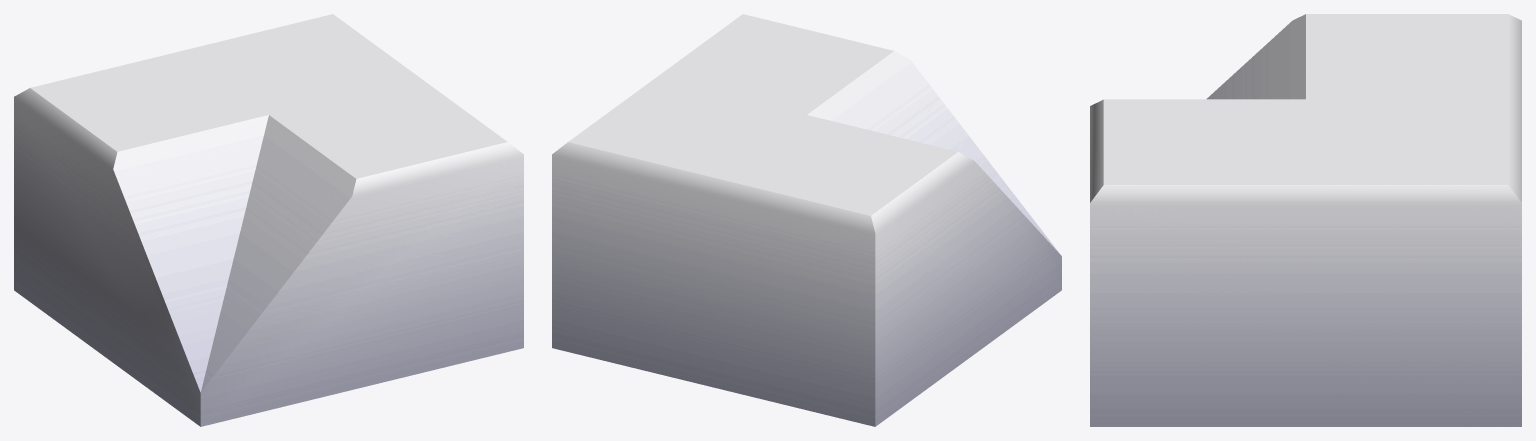
Rendered from none_hq_brick_slope_corner_inside_2x2.glb.
3 views of the same model, side by side, from view 1: azimuth 30°, elevation 25°; view 2: azimuth 150°, elevation 25°; view 3: azimuth 270°, elevation 25° (orthographic). The views are drawn at different scales.
Visible parts, largest first — view 1: none-hq-brick-slope-corner-inside-2x2; view 2: none-hq-brick-slope-corner-inside-2x2; view 3: none-hq-brick-slope-corner-inside-2x2.
Boxes of the visible parts, left/top/right/bottom form: none-hq-brick-slope-corner-inside-2x2: left=14, top=14, right=523, bottom=426; none-hq-brick-slope-corner-inside-2x2: left=552, top=14, right=1061, bottom=426; none-hq-brick-slope-corner-inside-2x2: left=1090, top=14, right=1521, bottom=426.
Size of the model in its own units: 0.159 by 0.096 by 0.159.
1 material, 1 textured.
